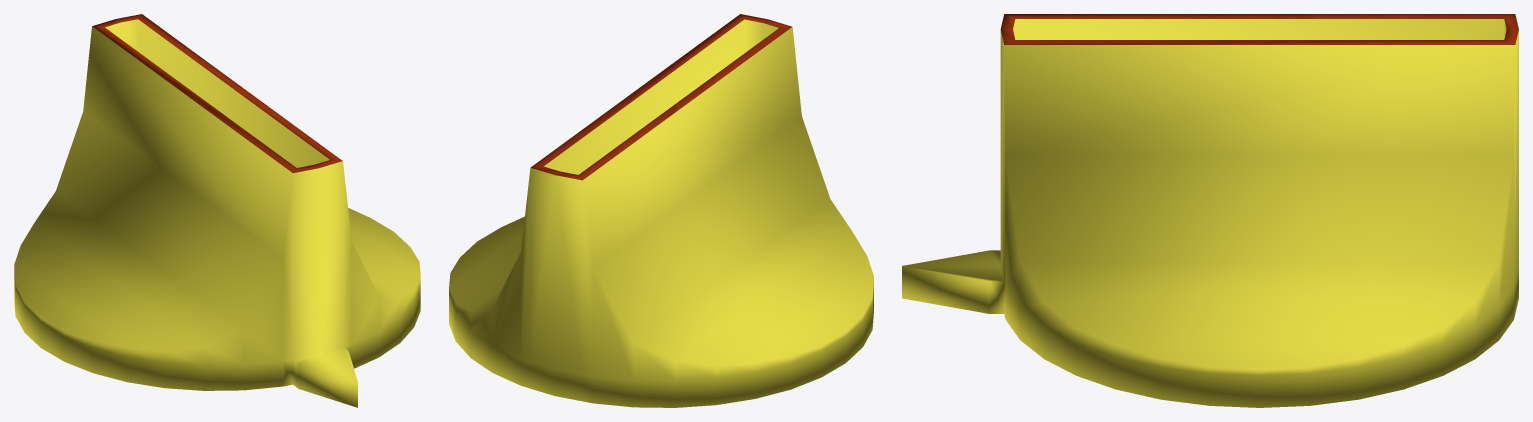
Rendered from Dial.fbx.
The picture shows the model from 3 angles, left to right: view 1: azimuth 30°, elevation 25°; view 2: azimuth 150°, elevation 25°; view 3: azimuth 270°, elevation 25°; orthographic projection. The views are drawn at different scales.
Parts seen in each view (by area): view 1: Cylinder; view 2: Cylinder; view 3: Cylinder.
Boxes of the visible parts, bbox=[...] form: Cylinder: bbox=[14, 14, 420, 407]; Cylinder: bbox=[449, 14, 873, 407]; Cylinder: bbox=[902, 14, 1518, 407].
Size of the model in its own units: 20.87 by 11.95 by 24.84.
